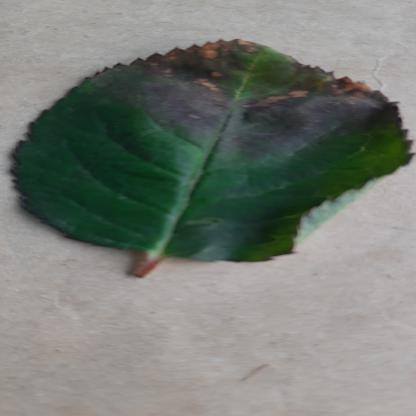powdery-mildew: (15, 36, 409, 261)
